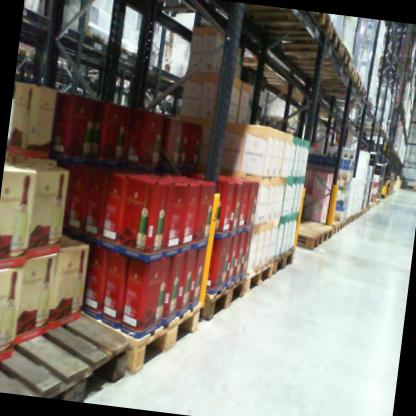pallet: (0, 288, 137, 406), (64, 275, 206, 382), (219, 3, 333, 42), (196, 262, 252, 331), (260, 19, 346, 60), (277, 38, 354, 72), (289, 56, 358, 85), (129, 0, 219, 21), (235, 47, 286, 80), (244, 251, 276, 299), (76, 25, 121, 58), (315, 63, 364, 91), (287, 220, 324, 256), (327, 88, 376, 111), (271, 242, 297, 280), (299, 215, 333, 244), (319, 80, 368, 100), (110, 37, 146, 64), (17, 42, 50, 68), (355, 116, 389, 133), (326, 220, 341, 237), (336, 218, 346, 232), (344, 213, 351, 227)
